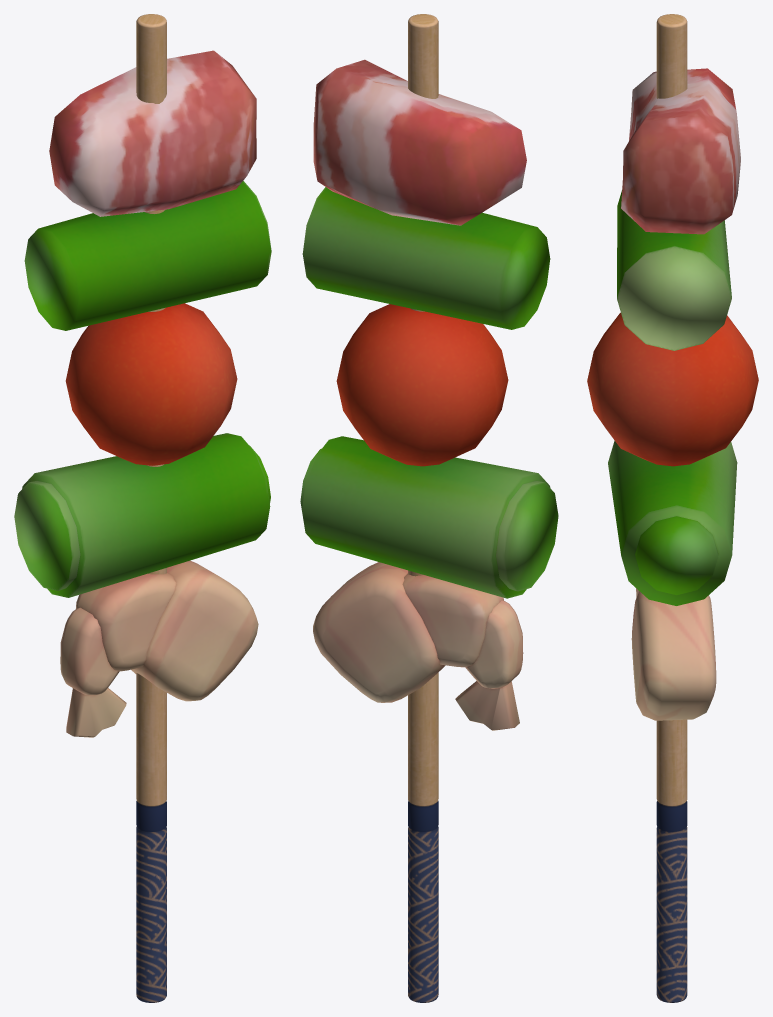
Rendered from JapaneseRestaurant_KushiA.fbx.
3 renders of one model, left to right at view 1: azimuth 30°, elevation 25°; view 2: azimuth 150°, elevation 25°; view 3: azimuth 270°, elevation 25°, orthographic.
Visible parts, largest first — view 1: JapaneseRestaurant_KushiA; view 2: JapaneseRestaurant_KushiA; view 3: JapaneseRestaurant_KushiA.
Part boxes in pixels (left/top/right/bottom): JapaneseRestaurant_KushiA: left=14, top=14, right=271, bottom=1002; JapaneseRestaurant_KushiA: left=300, top=14, right=558, bottom=1002; JapaneseRestaurant_KushiA: left=587, top=14, right=758, bottom=1002.
Bounding box in the file's own units: 5.94 × 26.4 × 4.2.
